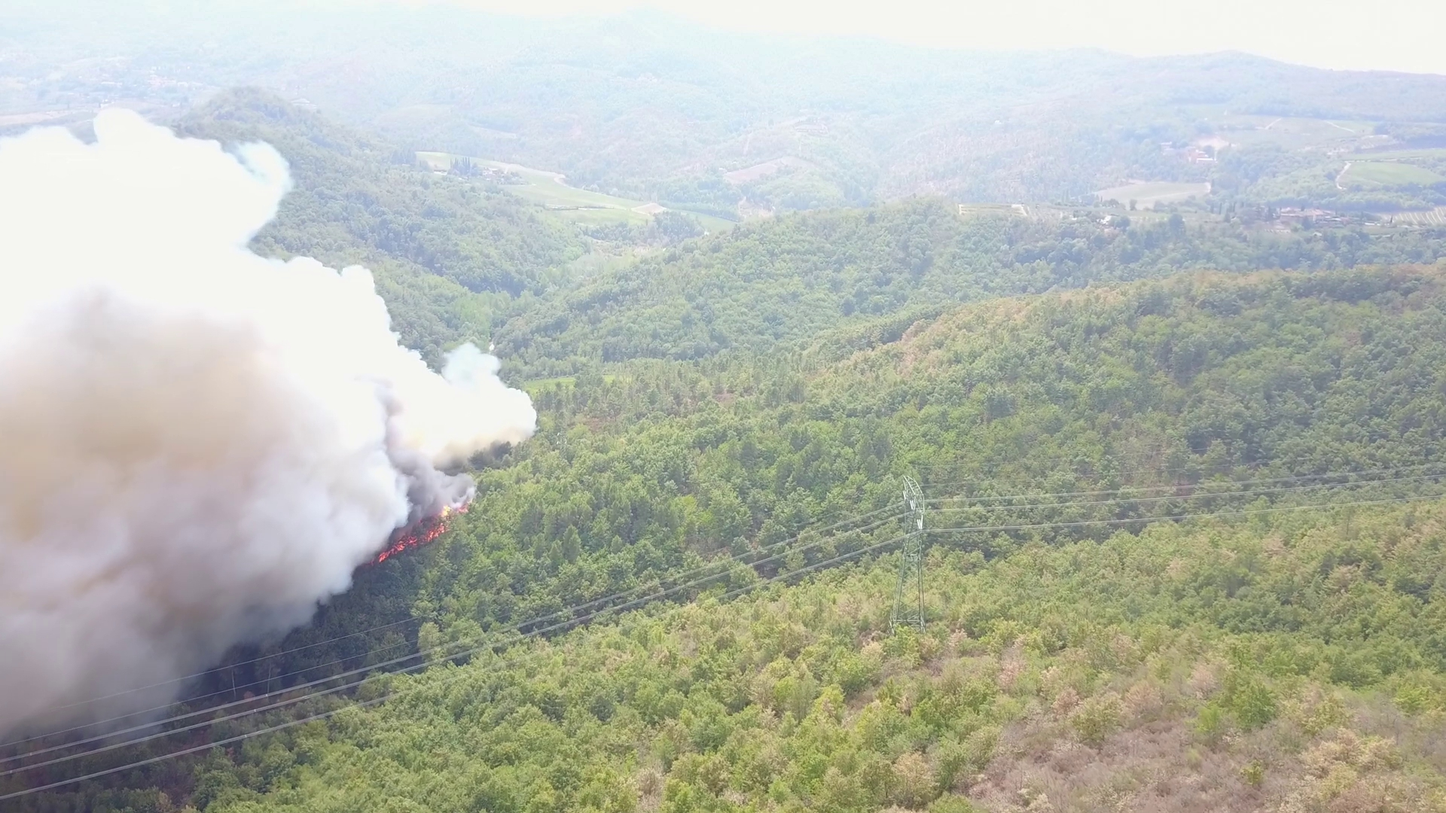forest_fire: (371, 505, 468, 562)
